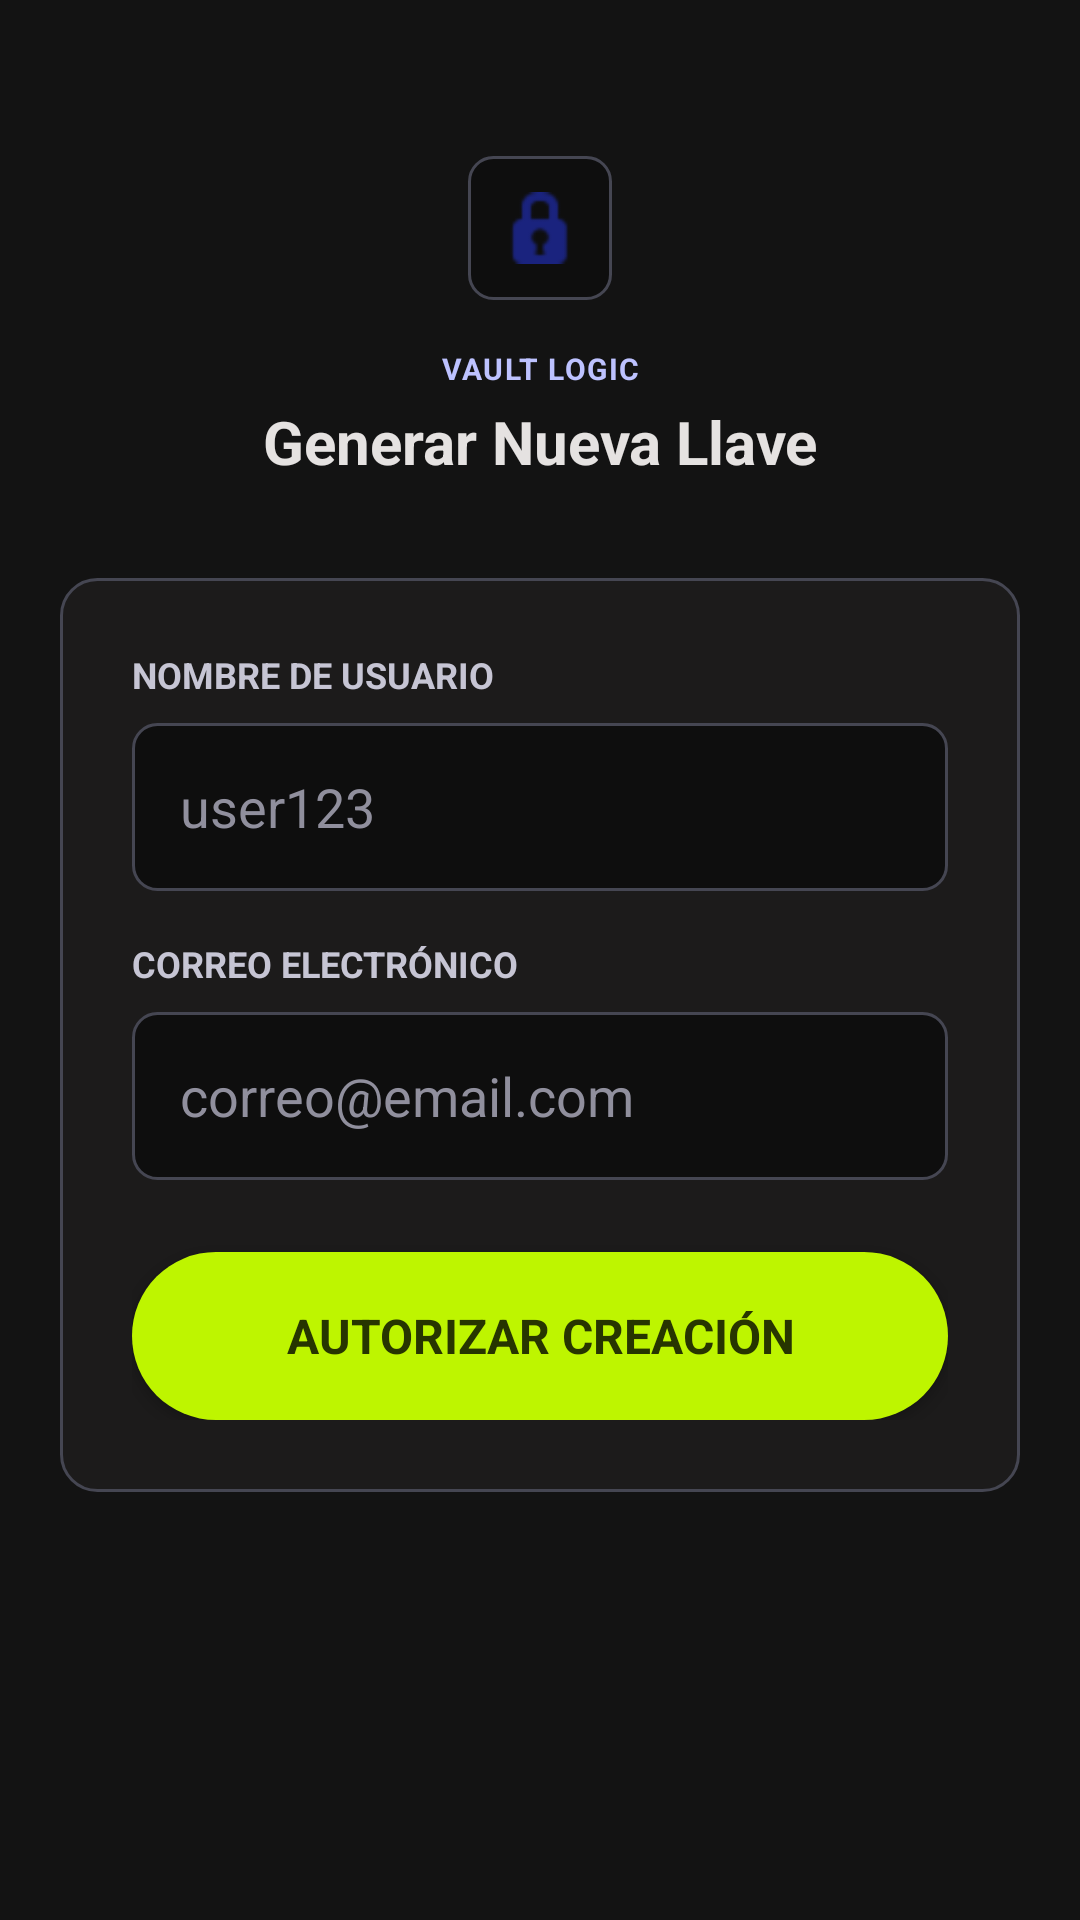

Icons on this 1080px x 1920px Android screen, each with its box as (x1, y1, x2, y2):
secure: (512, 192, 568, 264)
